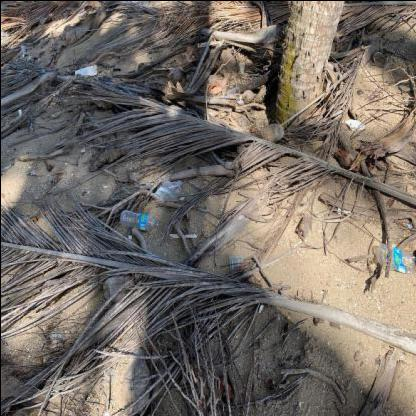Bottle cap: (375, 242, 415, 275), (118, 209, 158, 232), (162, 179, 180, 199)
Cup: (154, 180, 170, 199), (226, 86, 239, 97)
Other litter: (169, 233, 196, 236)
Unlabeled litter: (74, 63, 96, 75), (344, 118, 364, 130), (228, 254, 242, 271), (19, 43, 29, 59), (197, 41, 217, 47)
